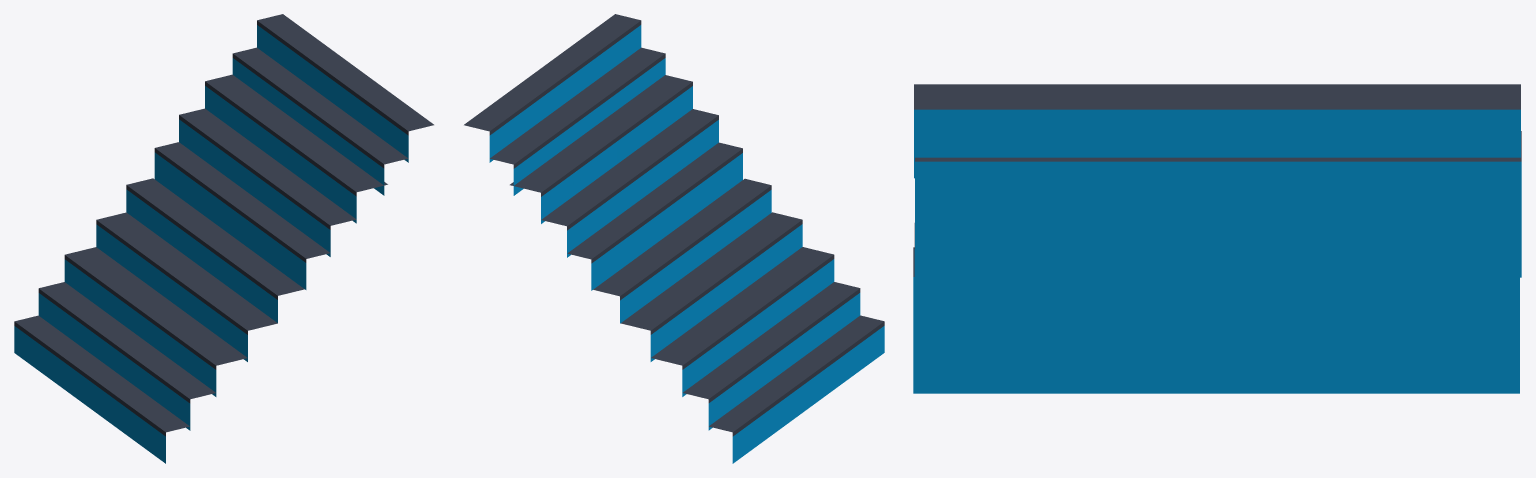
File: Building_BlueStairs02.fbx
The picture shows the model from 3 angles, left to right: view 1: azimuth 30°, elevation 25°; view 2: azimuth 150°, elevation 25°; view 3: azimuth 270°, elevation 25°; orthographic projection. The views are drawn at different scales.
Visible parts, largest first — view 1: CubeHome.000; view 2: CubeHome.000; view 3: CubeHome.000.
Part boxes in pixels (bbox=[...]): CubeHome.000: bbox=[14, 14, 433, 463]; CubeHome.000: bbox=[464, 14, 884, 463]; CubeHome.000: bbox=[913, 84, 1521, 393].
Size of the model in its own units: 234 by 228 by 230.
